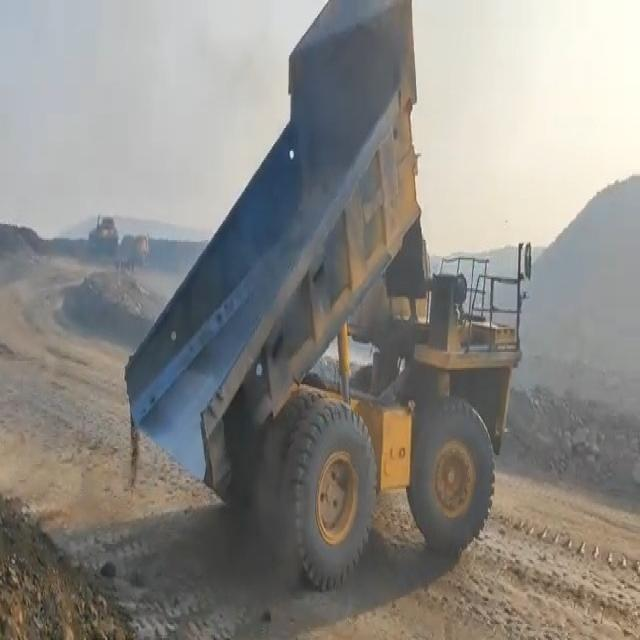dump_truck: (120, 0, 530, 588)
